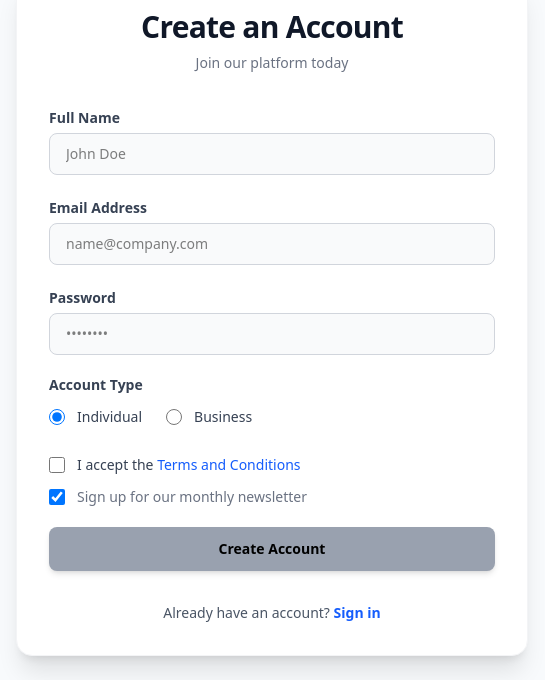
Test case: Register Component › submits successfully when all fields are valid
Fill out the form
Type "Ashish" into the field labelled "Full Name" at {"x": 272, "y": 154}, box [49,133,495,175]
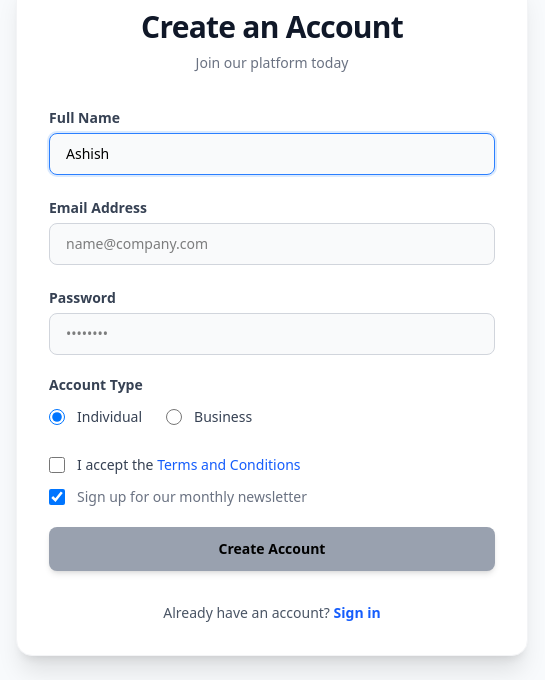
Type "ashish@example.com" into the field labelled "Email Address" at {"x": 272, "y": 244}, box [49,223,495,265]
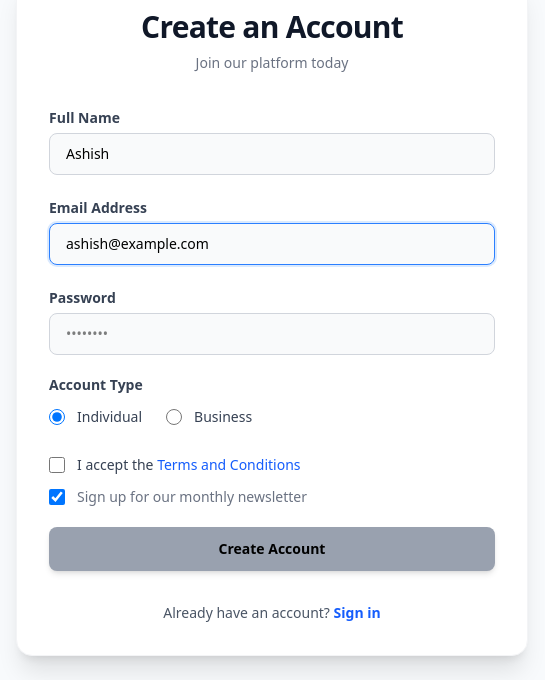
Type "securePassword123" into the password field labelled "Password" at {"x": 272, "y": 334}, box [49,313,495,355]
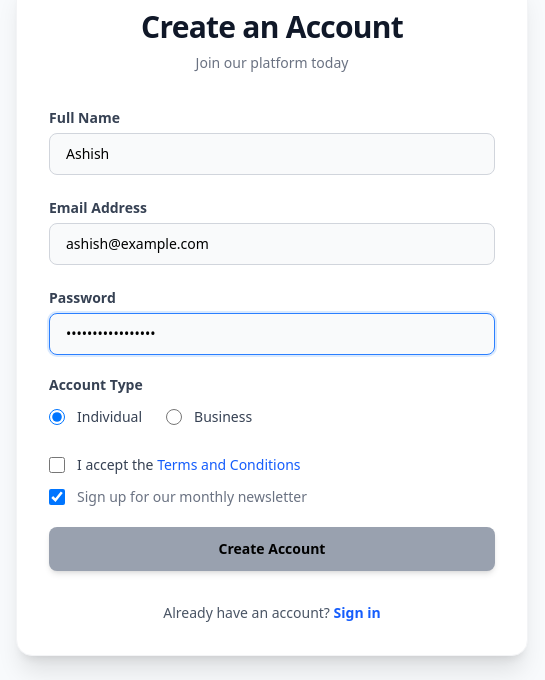
Click radio button
Click the radio button labelled "Business" at {"x": 174, "y": 417}, box [166,409,182,425]
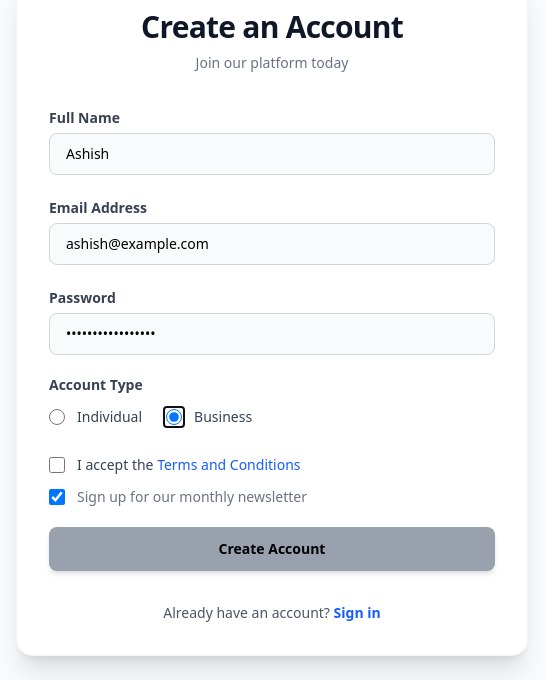
Check: the button "Create Account" is disabled, box [49,527,495,571]
Check Terms checkbox (Button is disabled until checked)
Click the checkbox labelled "I accept the Terms and Conditions" at {"x": 57, "y": 465}, box [49,457,65,473]
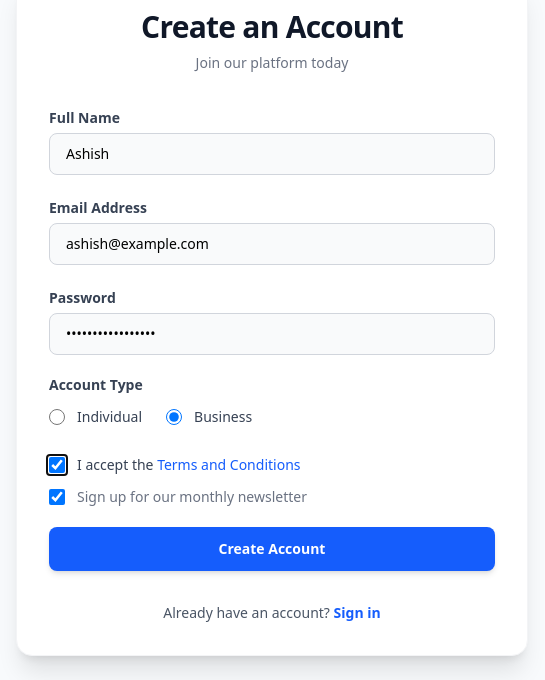
Check: the button "Create Account" is enabled
Click the button "Create Account" at {"x": 272, "y": 549}, box [49,527,495,571]
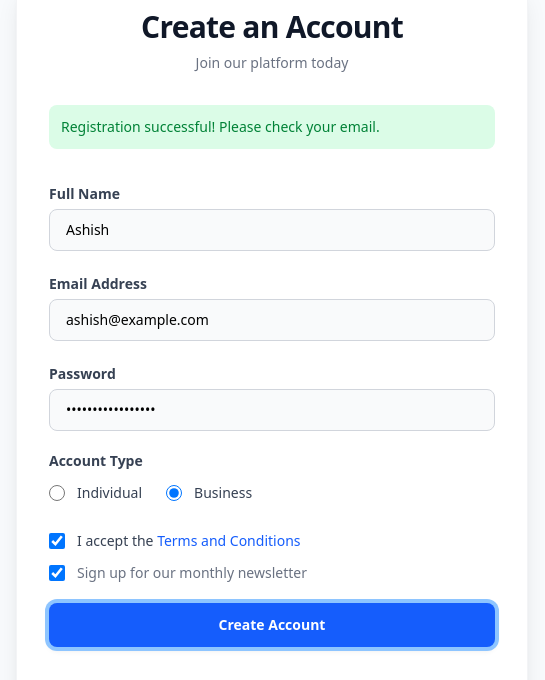
Check: the text "Registration successful! Please check your email." is shown, box [49,105,495,149]
